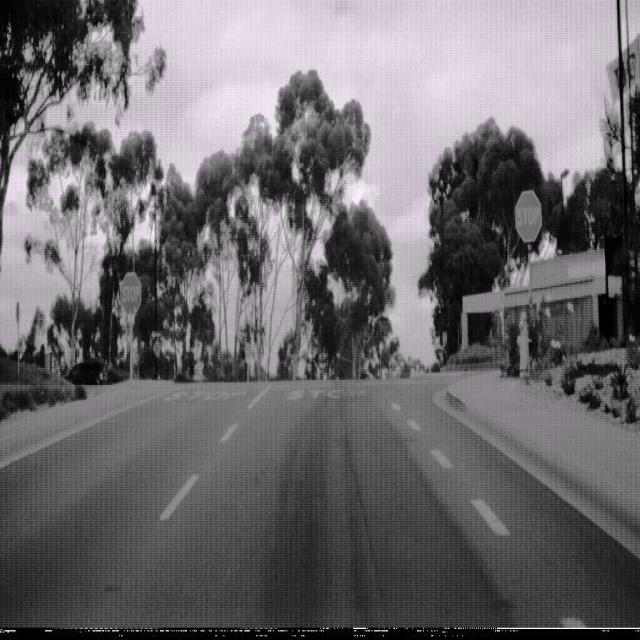stop_sign: (515, 189, 542, 243), (120, 271, 142, 315)
